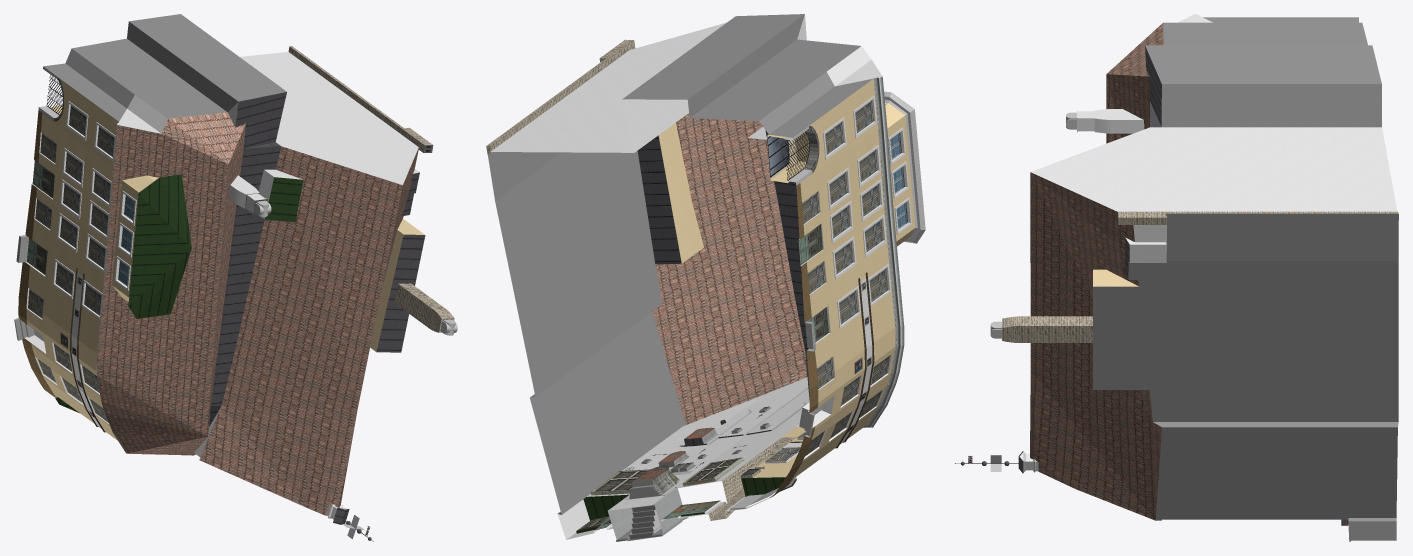
The model's file is Vanaturu_Kael_3.obj.
The picture shows the model from 3 angles, left to right: view 1: azimuth 30°, elevation 25°; view 2: azimuth 150°, elevation 25°; view 3: azimuth 270°, elevation 25°; orthographic projection. The views are drawn at different scales.
Parts seen in each view (by area): view 1: Vanaturu_kael_3; view 2: Vanaturu_kael_3; view 3: Vanaturu_kael_3.
Part boxes in pixels (x1,y1,x2,y2): Vanaturu_kael_3: (14, 14, 457, 541); Vanaturu_kael_3: (486, 14, 925, 541); Vanaturu_kael_3: (955, 14, 1398, 541).
Bounding box in the file's own units: 21.17 × 29.1 × 26.34.
